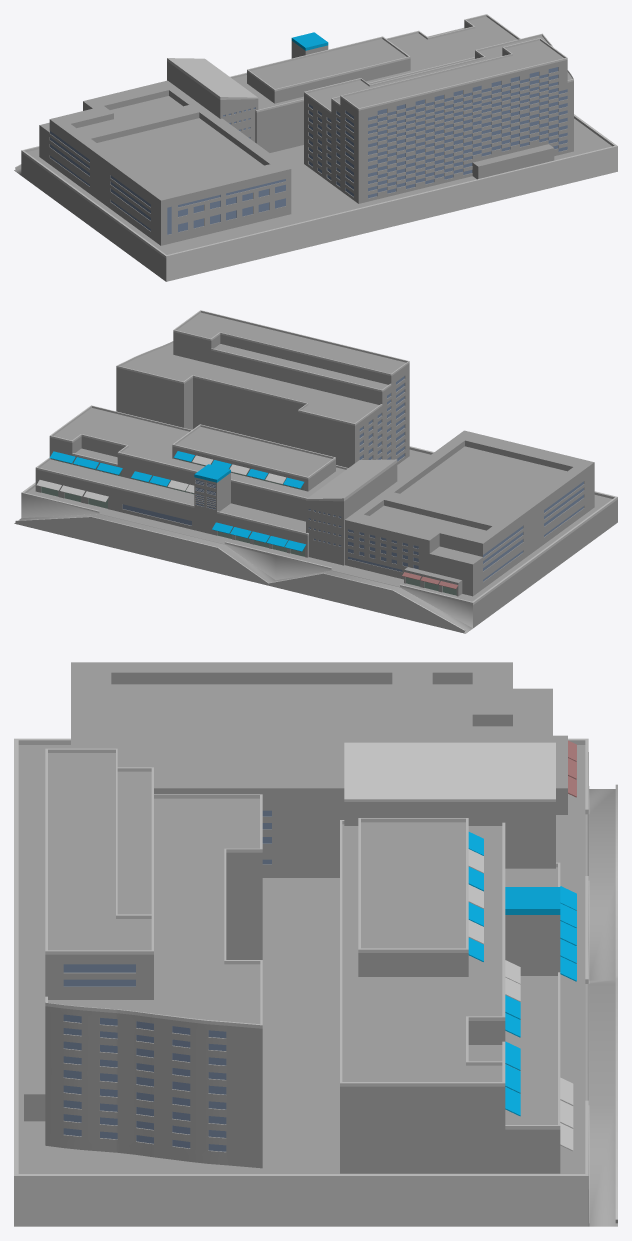
Rendered from BigBlockBuilding.fbx.
3 views of the same model, one above another, from view 1: azimuth 30°, elevation 25°; view 2: azimuth 150°, elevation 25°; view 3: azimuth 270°, elevation 25° (orthographic). The views are drawn at different scales.
Parts seen in each view (by area): view 1: SpecialBuilding23; view 2: SpecialBuilding23; view 3: SpecialBuilding23.
Boxes of the visible parts, bbox=[...] form: SpecialBuilding23: bbox=[14, 14, 617, 281]; SpecialBuilding23: bbox=[14, 310, 617, 633]; SpecialBuilding23: bbox=[14, 662, 617, 1226].
Bounding box in the file's own units: 30.93 × 7.73 × 18.05.
